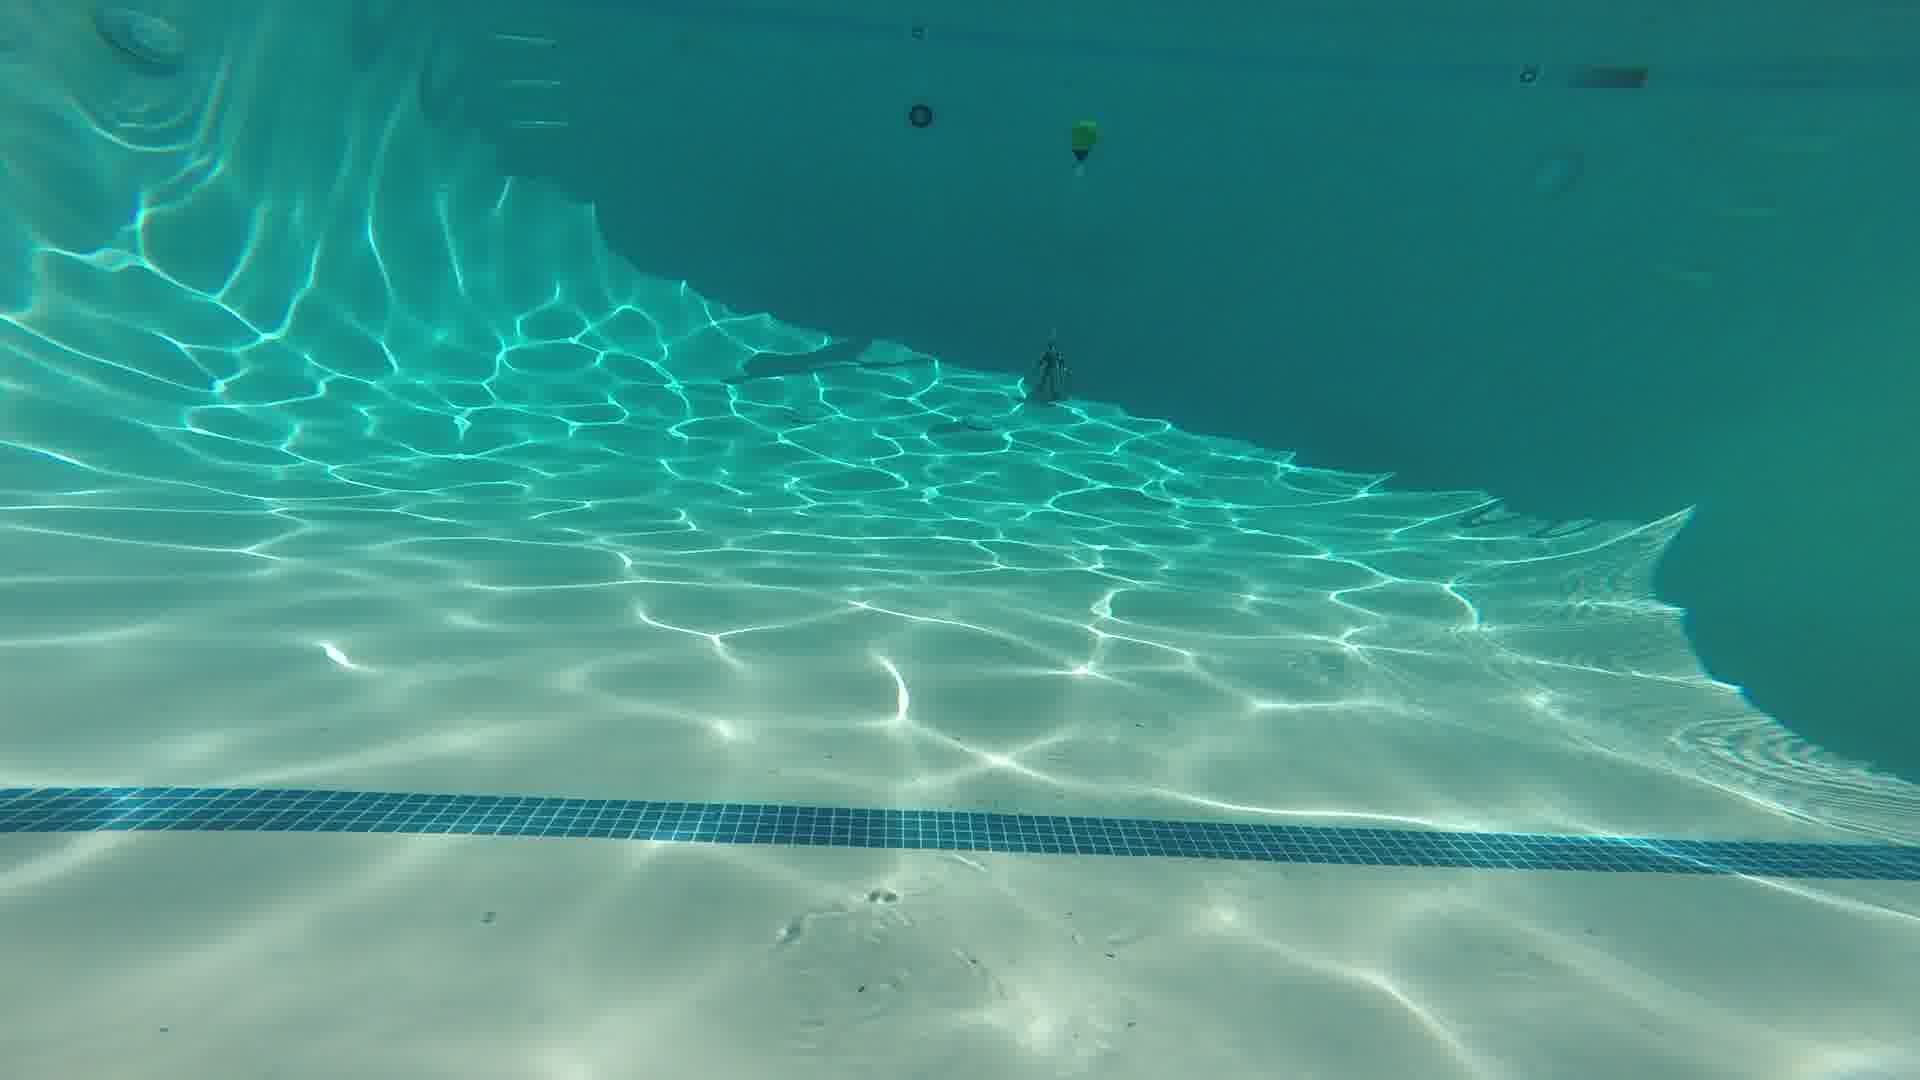yellow_buoy: (1062, 115, 1102, 173)
